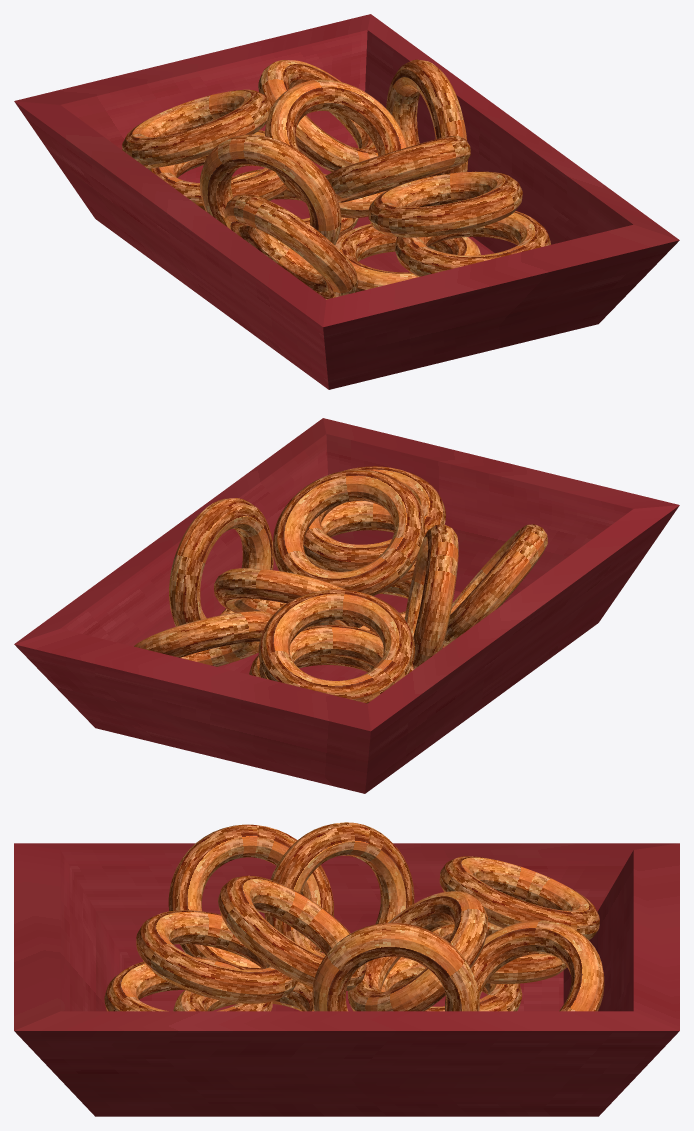
Rendered from Onions.obj.
The picture shows the model from 3 angles, top to bottom: view 1: azimuth 30°, elevation 25°; view 2: azimuth 150°, elevation 25°; view 3: azimuth 270°, elevation 25°; orthographic projection. The views are drawn at different scales.
Visible parts, largest first — view 1: Onions; view 2: Onions; view 3: Onions.
Boxes of the visible parts, x1,y1,x2,y2 form: Onions: (14,14,679,389); Onions: (14,418,679,793); Onions: (14,822,679,1116).
Bounding box in the file's own units: 1.74 × 0.7624 × 2.61.
